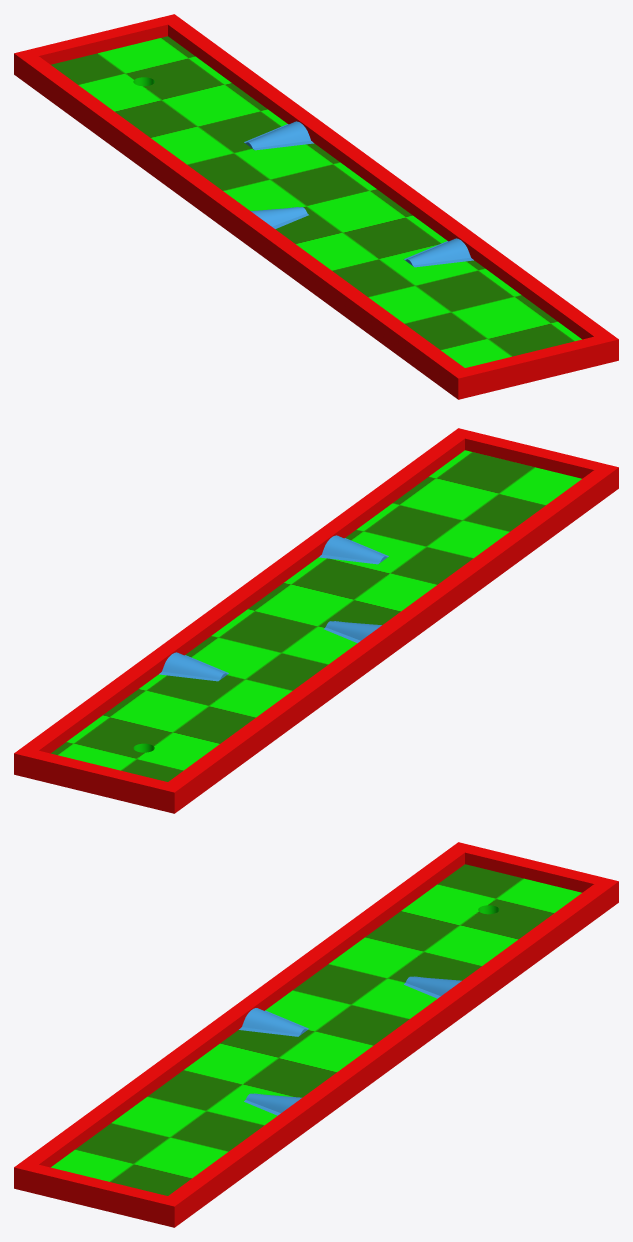
The model's file is Track2.fbx.
3 renders of one model, top to bottom at view 1: azimuth 30°, elevation 25°; view 2: azimuth 150°, elevation 25°; view 3: azimuth 330°, elevation 25°, orthographic.
Parts seen in each view (by area): view 1: Track2_Track, Track2_Boundary, Track2_RoundObs; view 2: Track2_Track, Track2_Boundary, Track2_RoundObs; view 3: Track2_Track, Track2_Boundary, Track2_RoundObs.
Boxes of the visible parts, x1,y1,x2,y2 form: Track2_Track: (51, 36, 581, 367); Track2_Boundary: (14, 14, 618, 399); Track2_RoundObs: (244, 121, 473, 267); Track2_Track: (51, 450, 581, 781); Track2_Boundary: (14, 428, 618, 813); Track2_RoundObs: (159, 535, 388, 681); Track2_Track: (51, 864, 581, 1195); Track2_Boundary: (14, 842, 618, 1227); Track2_RoundObs: (239, 976, 461, 1115).
Size of the model in its own units: 87 by 11 by 417.
